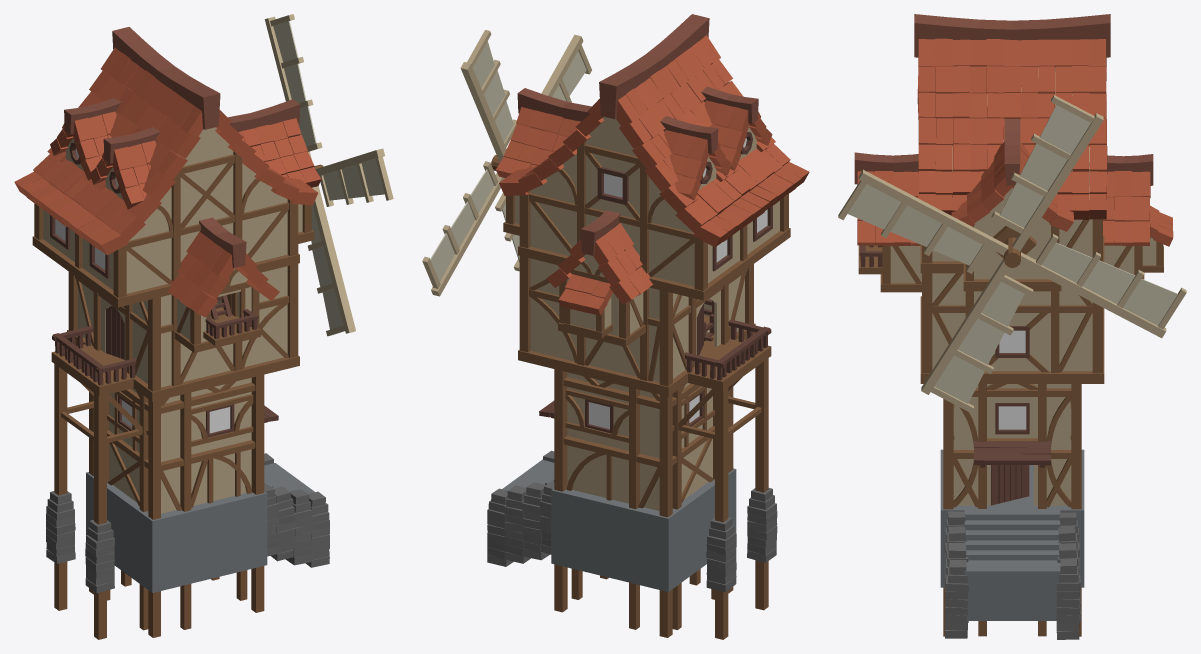
The model's file is fang04_5.fbx.
The picture shows the model from 3 angles, left to right: view 1: azimuth 30°, elevation 25°; view 2: azimuth 150°, elevation 25°; view 3: azimuth 270°, elevation 25°; orthographic projection. The views are drawn at different scales.
Parts seen in each view (by area): view 1: zhuzi.056, fang04, wuding2.013, 立方体.021, diban, 立方体.013, fengche, 立方体.026, 立方体.090, wuding10, 立方体.014, wuding3 (+13 smaller); view 2: zhuzi.056, fang04, wuding2.013, 立方体.021, diban, 立方体.013, fengche, 立方体.067, 立方体.090, 立方体.014, wuding12, wuding3 (+12 smaller); view 3: wuding2.013, fang04, 立方体.090, 立方体.021, fengche, zhuzi.056, 立方体.013, diban, wuding12, wuding3, 立方体.067, 立方体.026 (+8 smaller).
Part boxes in pixels (x1,y1,x2,y2): zhuzi.056: (34, 151, 311, 639); fang04: (43, 127, 302, 513); wuding2.013: (14, 47, 317, 255); 立方体.021: (86, 463, 314, 592); diban: (32, 230, 314, 401); 立方体.013: (64, 27, 300, 267); fengche: (264, 14, 393, 336); 立方体.026: (264, 484, 329, 567); 立方体.090: (273, 21, 384, 329); wuding10: (167, 231, 279, 317); 立方体.014: (46, 491, 114, 593); wuding3: (238, 118, 321, 187); zhuzi.056: (506, 141, 788, 639); fang04: (515, 116, 779, 510); wuding2.013: (499, 35, 809, 247); 立方体.021: (502, 459, 736, 591); diban: (503, 221, 790, 396); 立方体.013: (517, 14, 758, 255); fengche: (422, 30, 591, 296); 立方体.067: (487, 481, 554, 566); 立方体.090: (430, 41, 586, 281); 立方体.014: (706, 488, 777, 592); wuding12: (546, 223, 652, 304); wuding3: (496, 107, 580, 177); wuding2.013: (917, 38, 1107, 219); fang04: (890, 66, 1156, 505); 立方体.090: (847, 105, 1177, 403); 立方体.021: (940, 449, 1084, 620); fengche: (838, 95, 1186, 412); zhuzi.056: (882, 219, 1163, 636); 立方体.013: (854, 14, 1153, 185); diban: (858, 236, 1163, 383); wuding12: (1103, 171, 1150, 245); wuding3: (951, 141, 1073, 231); 立方体.067: (1056, 512, 1081, 639); 立方体.026: (944, 511, 968, 638).
Bounding box in the file's own units: 774 × 1508 × 816.
